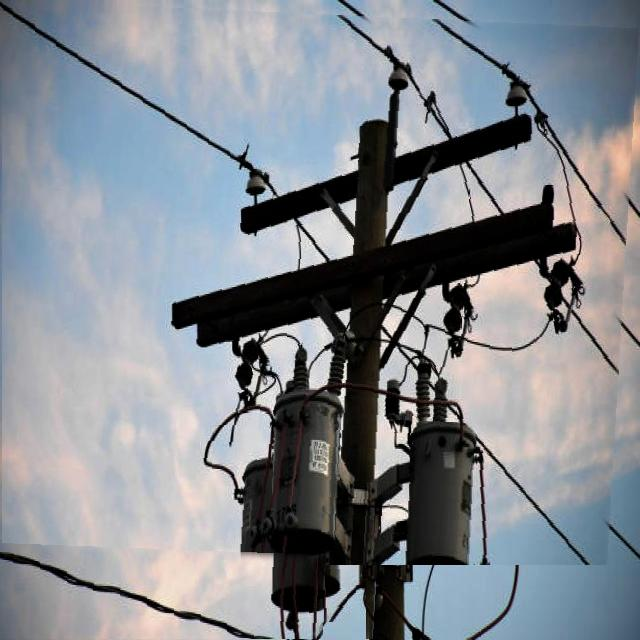crossarm: (193, 170, 595, 339), (258, 92, 541, 228)
pole: (366, 98, 397, 639)
transformer: (272, 445, 356, 624), (434, 386, 511, 562), (300, 374, 368, 558)
wire: (2, 0, 608, 565), (0, 543, 294, 640)
